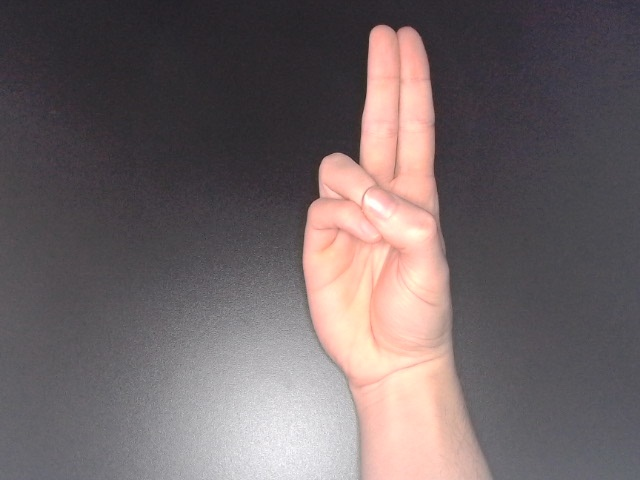r: (297, 21, 459, 411)
